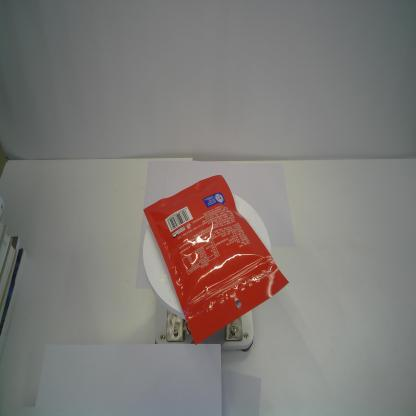Dried Fruit: (143, 174, 290, 346)
